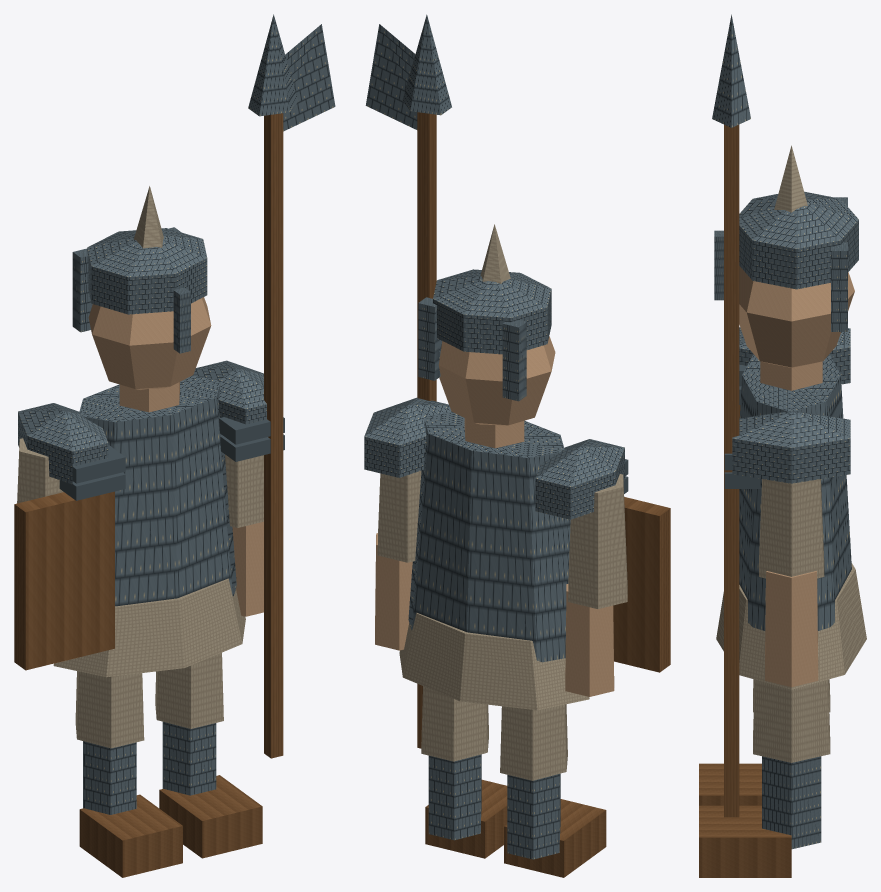
Rendered from unit-HALBERD-lod1.glb.
3 renders of one model, left to right at view 1: azimuth 30°, elevation 25°; view 2: azimuth 150°, elevation 25°; view 3: azimuth 270°, elevation 25°, orthographic. The views are drawn at different scales.
Bounding box in the file's own units: 0.225 × 0.565 × 0.098.
Materials: 1 (1 with a texture image).
